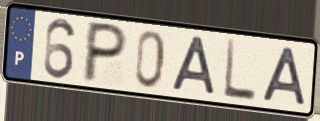0: (134, 29, 168, 90)
6: (42, 15, 78, 81)
A: (169, 34, 218, 98), (260, 45, 309, 109)
L: (221, 36, 258, 104)
P: (79, 19, 130, 85)
